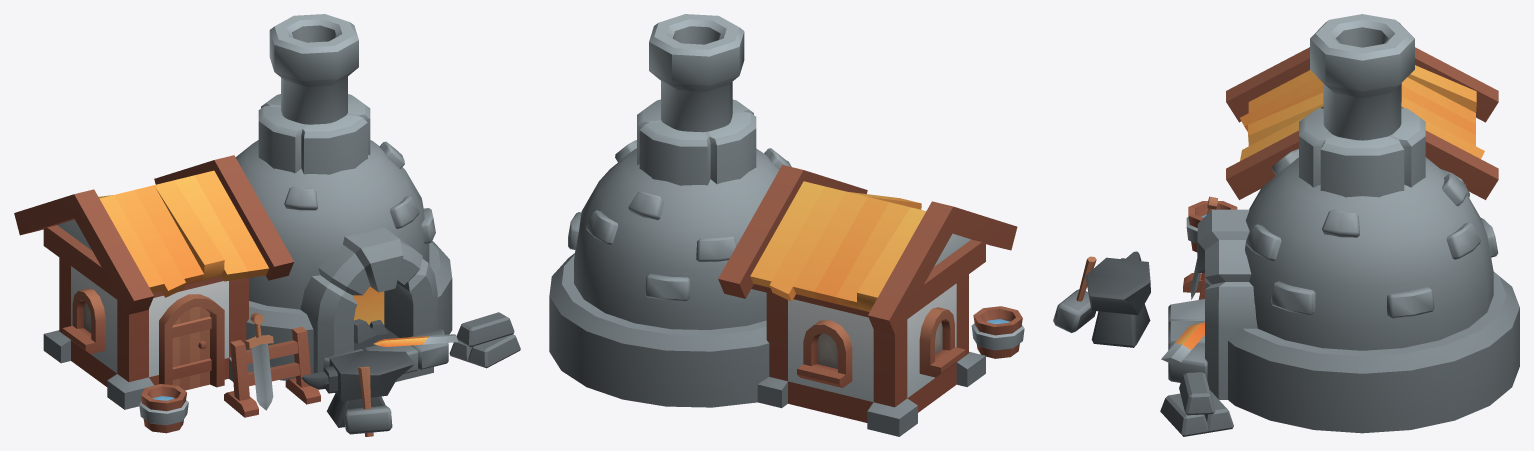
File: building_blacksmith_yellow.gltf
3 renders of one model, left to right at view 1: azimuth 30°, elevation 25°; view 2: azimuth 150°, elevation 25°; view 3: azimuth 270°, elevation 25°, orthographic. The views are drawn at different scales.
Visible parts, largest first — view 1: building_blacksmith_yellow; view 2: building_blacksmith_yellow; view 3: building_blacksmith_yellow.
Boxes of the visible parts, <box> form: building_blacksmith_yellow: <box>14,14,520,436</box>; building_blacksmith_yellow: <box>549,14,1024,436</box>; building_blacksmith_yellow: <box>1053,14,1519,436</box>.
Bounding box in the file's own units: 1.29 × 0.9852 × 1.25.
1 material, 1 textured.
